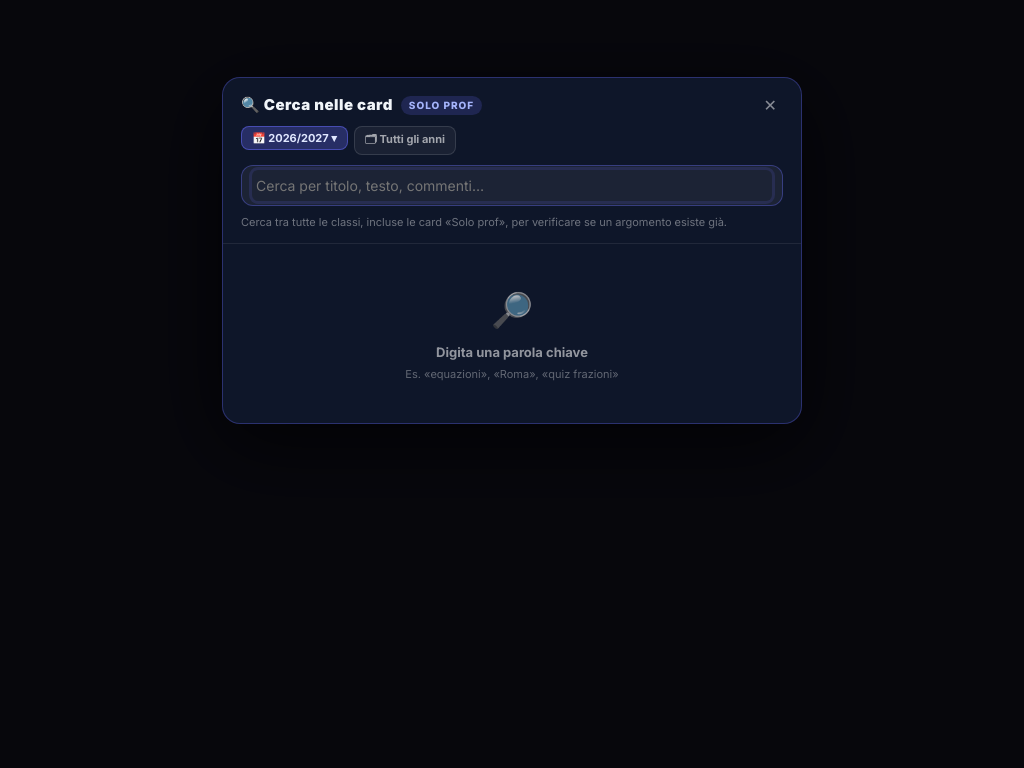
CercaModal › matches inside the card text
Type "fondazione" into the field named "Cerca card" at (512, 186), box [252,170,772,201]
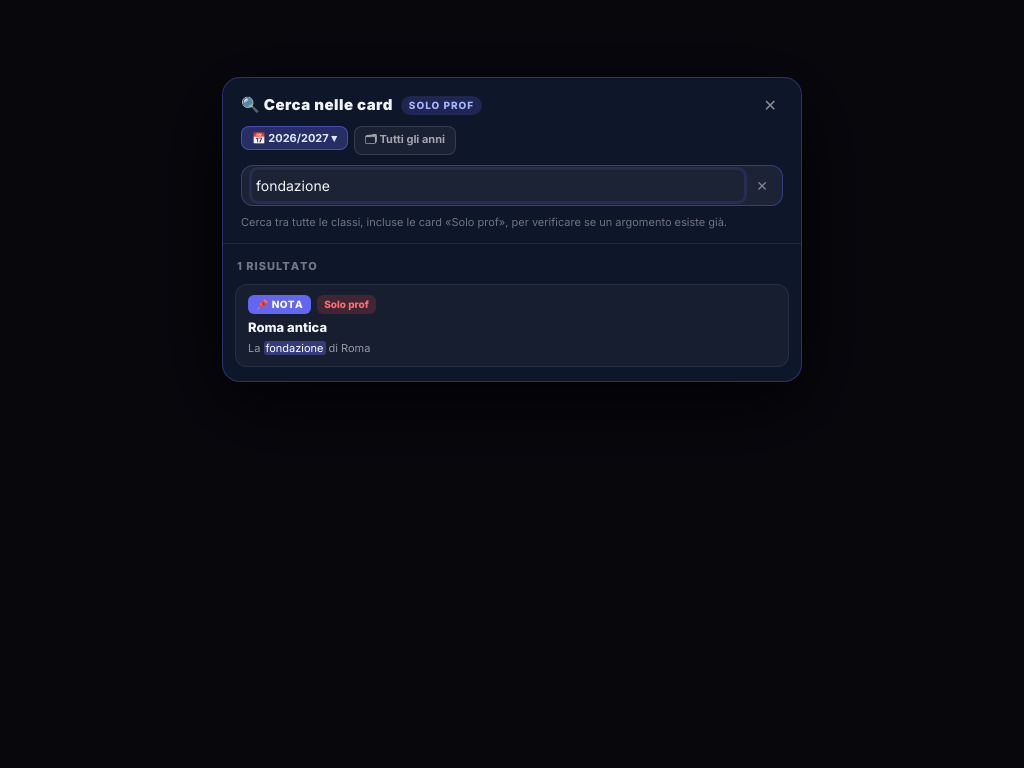
Check: the button "📌 NOTA Solo prof Roma antica La fondazione di Roma" is shown, box [235,284,789,367]
